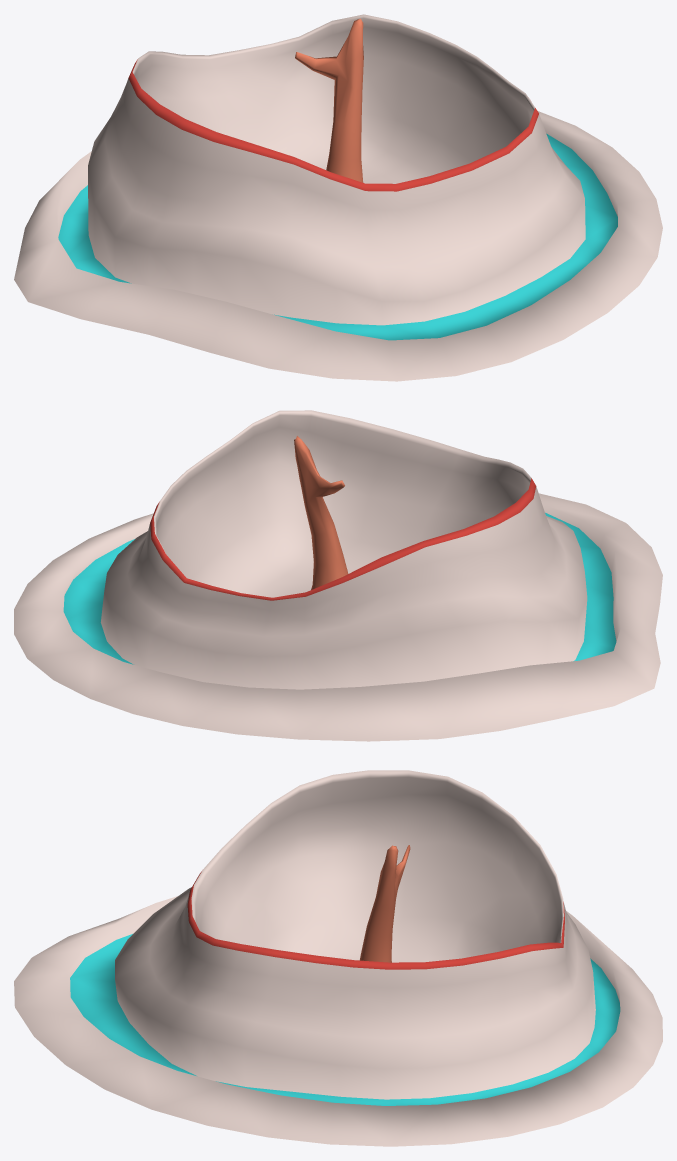
The model's file is cratertree.fbx.
The picture shows the model from 3 angles, top to bottom: view 1: azimuth 30°, elevation 25°; view 2: azimuth 150°, elevation 25°; view 3: azimuth 270°, elevation 25°; orthographic projection. The views are drawn at different scales.
Parts seen in each view (by area): view 1: Roundcube; view 2: Roundcube; view 3: Roundcube.
Boxes of the visible parts, x1,y1,x2,y2 form: Roundcube: [14, 14, 662, 381]; Roundcube: [14, 410, 662, 741]; Roundcube: [14, 770, 662, 1146].
Size of the model in its own units: 1936 by 584 by 1877.
